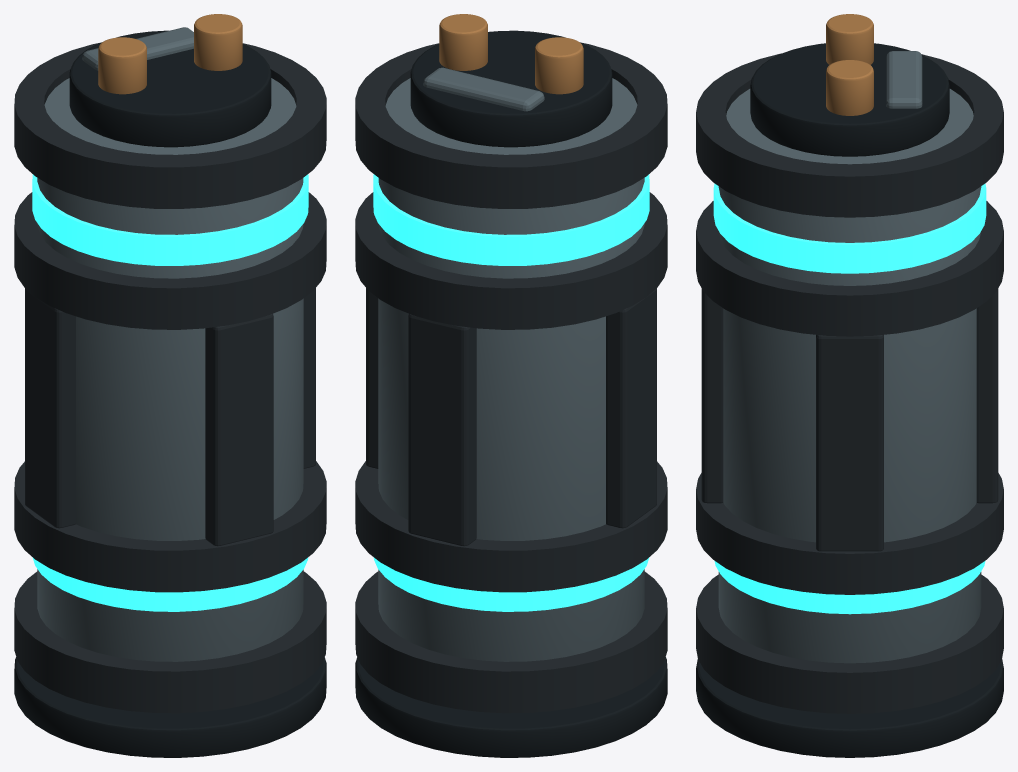
Rendered from laser_cell.glb.
3 renders of one model, left to right at view 1: azimuth 30°, elevation 25°; view 2: azimuth 150°, elevation 25°; view 3: azimuth 270°, elevation 25°, orthographic.
Visible parts, largest first — view 1: CapacitorCeramicCore, CapacitorIsolationCollar.003, CapacitorIsolationCollar, CapacitorIsolationCollar.002, CapacitorIsolationCollar.001, AxialHeatFin.003, TerminalInsulator, CapacitorEndSeal, AxialHeatFin, CyanChargeWindow.001, PowerTerminal.001, CyanChargeWindow (+1 smaller); view 2: CapacitorCeramicCore, CapacitorIsolationCollar.003, CapacitorIsolationCollar, CapacitorIsolationCollar.002, CapacitorIsolationCollar.001, AxialHeatFin.002, CapacitorEndSeal, TerminalInsulator, AxialHeatFin, CyanChargeWindow.001, PowerTerminal.001, CyanChargeWindow (+1 smaller); view 3: CapacitorCeramicCore, CapacitorIsolationCollar.003, CapacitorIsolationCollar, CapacitorIsolationCollar.002, CapacitorIsolationCollar.001, AxialHeatFin, TerminalInsulator, CapacitorEndSeal, CyanChargeWindow.001, CyanChargeWindow, AxialHeatFin.002, AxialHeatFin.003 (+2 smaller).
Part boxes in pixels (<box>): CapacitorCeramicCore: <box>37,78,303,661</box>; CapacitorIsolationCollar.003: <box>14,42,326,208</box>; CapacitorIsolationCollar: <box>14,571,326,713</box>; CapacitorIsolationCollar.002: <box>14,192,326,329</box>; CapacitorIsolationCollar.001: <box>14,461,326,592</box>; AxialHeatFin.003: <box>205,314,273,546</box>; TerminalInsulator: <box>69,30,271,147</box>; CapacitorEndSeal: <box>14,657,326,757</box>; AxialHeatFin: <box>25,288,315,528</box>; CyanChargeWindow.001: <box>32,174,308,265</box>; PowerTerminal.001: <box>98,14,242,94</box>; CyanChargeWindow: <box>32,557,308,611</box>; CapacitorCeramicCore: <box>378,78,644,661</box>; CapacitorIsolationCollar.003: <box>355,42,667,208</box>; CapacitorIsolationCollar: <box>355,571,667,713</box>; CapacitorIsolationCollar.002: <box>355,192,667,329</box>; CapacitorIsolationCollar.001: <box>355,461,667,592</box>; AxialHeatFin.002: <box>408,314,476,546</box>; CapacitorEndSeal: <box>355,657,667,757</box>; TerminalInsulator: <box>410,30,612,147</box>; AxialHeatFin: <box>366,288,656,528</box>; CyanChargeWindow.001: <box>373,174,649,265</box>; PowerTerminal.001: <box>439,14,583,94</box>; CyanChargeWindow: <box>373,557,649,611</box>; CapacitorCeramicCore: <box>718,89,981,663</box>; CapacitorIsolationCollar.003: <box>696,53,1003,217</box>; CapacitorIsolationCollar: <box>696,574,1003,713</box>; CapacitorIsolationCollar.002: <box>696,201,1003,336</box>; CapacitorIsolationCollar.001: <box>696,473,1003,594</box>; AxialHeatFin: <box>816,335,883,551</box>; TerminalInsulator: <box>750,43,949,156</box>; CapacitorEndSeal: <box>696,659,1003,757</box>; CyanChargeWindow.001: <box>713,183,986,273</box>; CyanChargeWindow: <box>714,561,985,614</box>; AxialHeatFin.002: <box>976,288,998,503</box>; AxialHeatFin.003: <box>701,288,723,503</box>.
Size of the model in its own units: 0.68 by 1.58 by 0.68.
